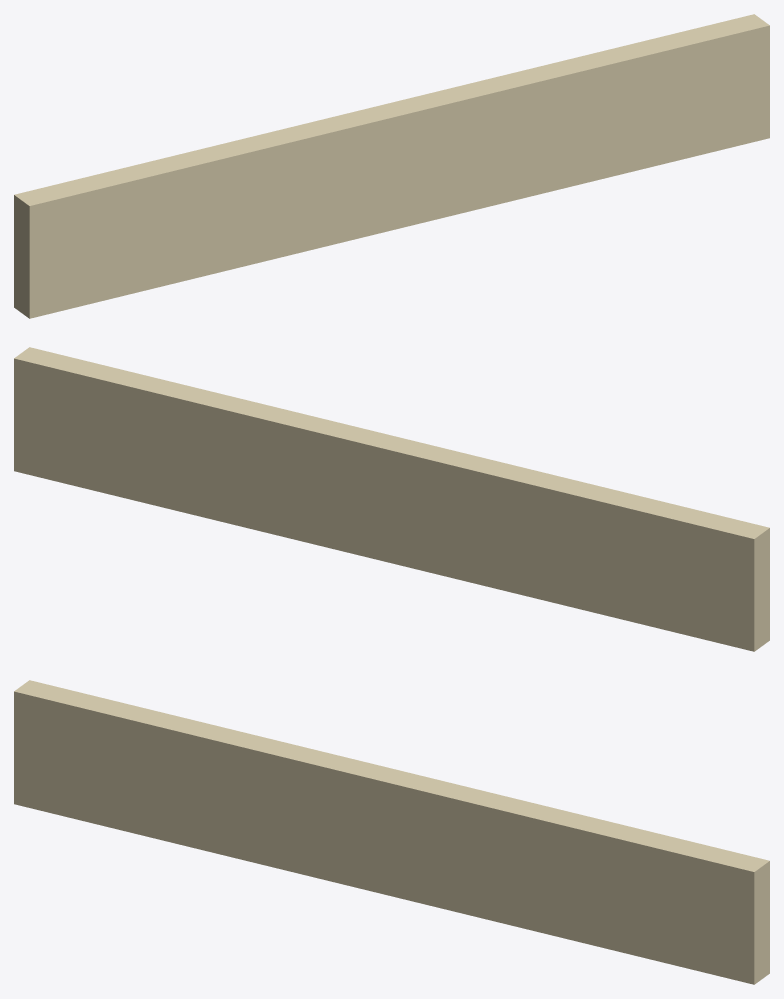
Rendered from lwf_food_van_fascia_v1.glb.
The picture shows the model from 3 angles, top to bottom: view 1: azimuth 30°, elevation 25°; view 2: azimuth 150°, elevation 25°; view 3: azimuth 330°, elevation 25°; orthographic projection.
Parts seen in each view (by area): view 1: lwf_food_van_fascia_v1; view 2: lwf_food_van_fascia_v1; view 3: lwf_food_van_fascia_v1.
Boxes of the visible parts, x1,y1,x2,y2 form: lwf_food_van_fascia_v1: (14, 14, 769, 318); lwf_food_van_fascia_v1: (14, 347, 769, 651); lwf_food_van_fascia_v1: (14, 680, 769, 984).
Size of the model in its own units: 2.75 by 0.4 by 0.1.
1 material, 1 textured.
